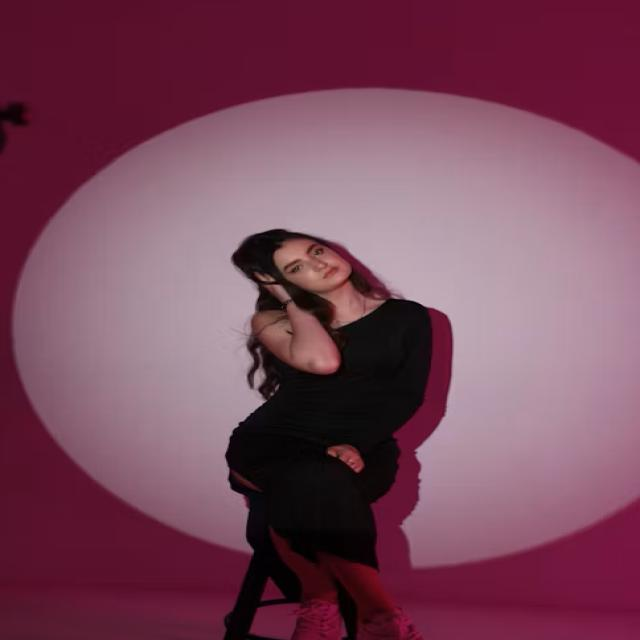Edited images: (194, 209, 460, 640)
